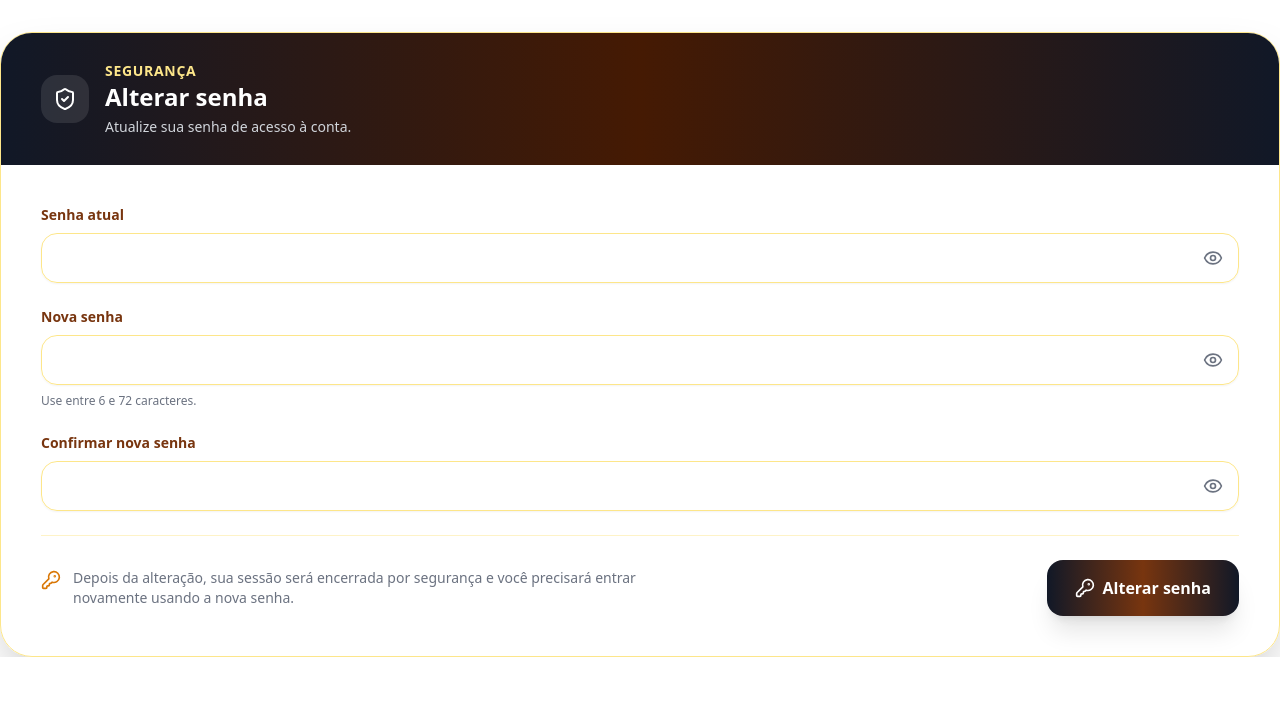
Test: PerfilSecurity › não deve enviar quando confirmação da senha for diferente
Type "senha-atual" into the password field labelled "Senha atual" at (640, 258), box [41,233,1239,283]
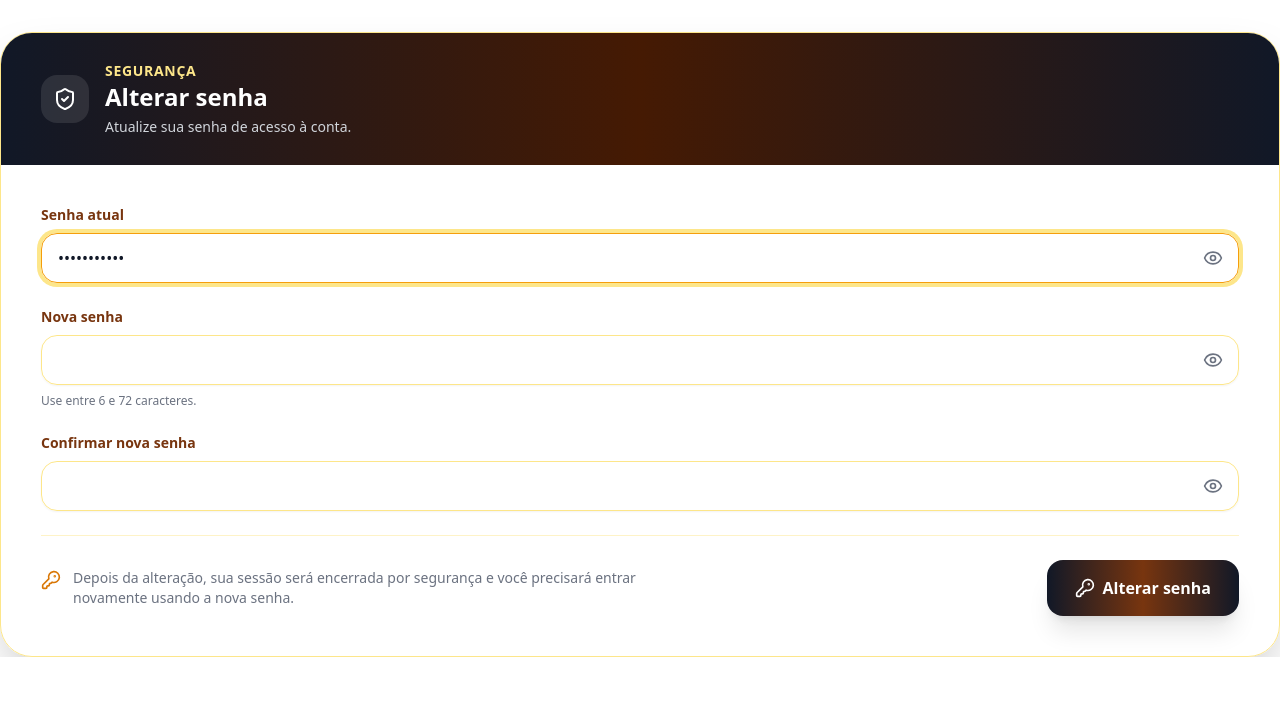
Type "nova-senha-123" into the password field labelled "Nova senha" at (640, 360), box [41,335,1239,385]
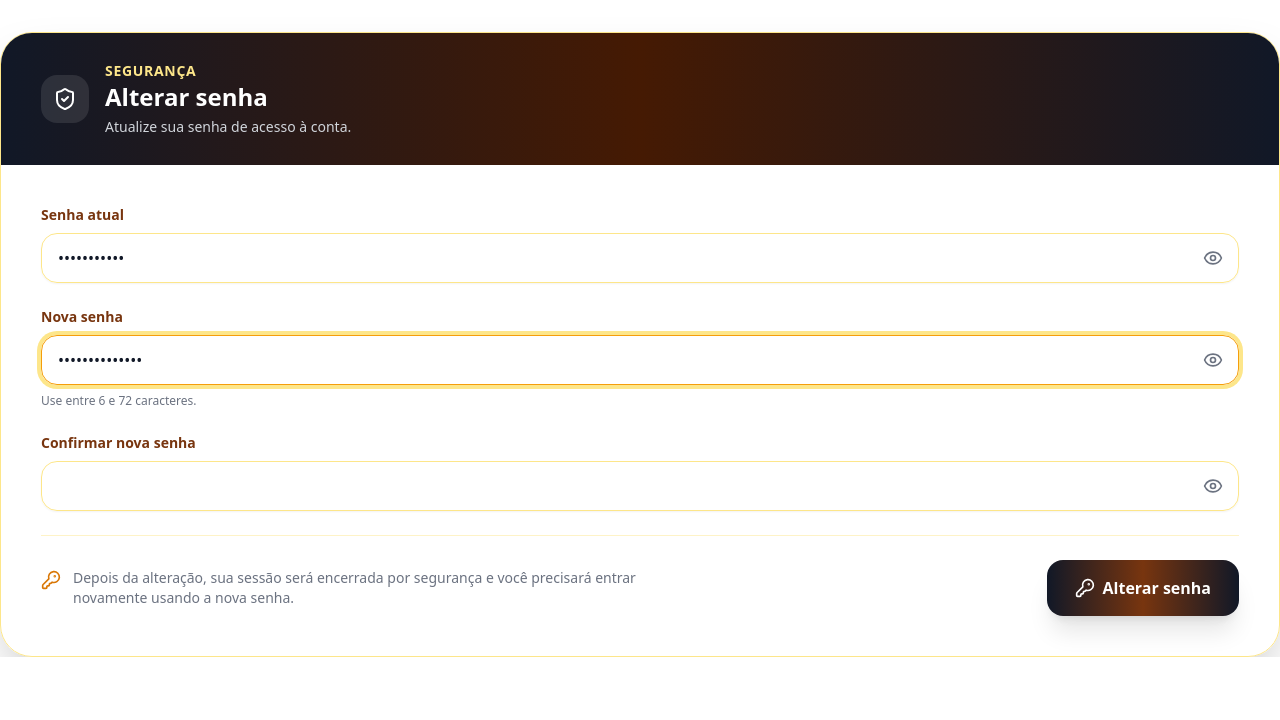
Type "senha-diferente" into the password field labelled "Confirmar nova senha" at (640, 486), box [41,461,1239,511]
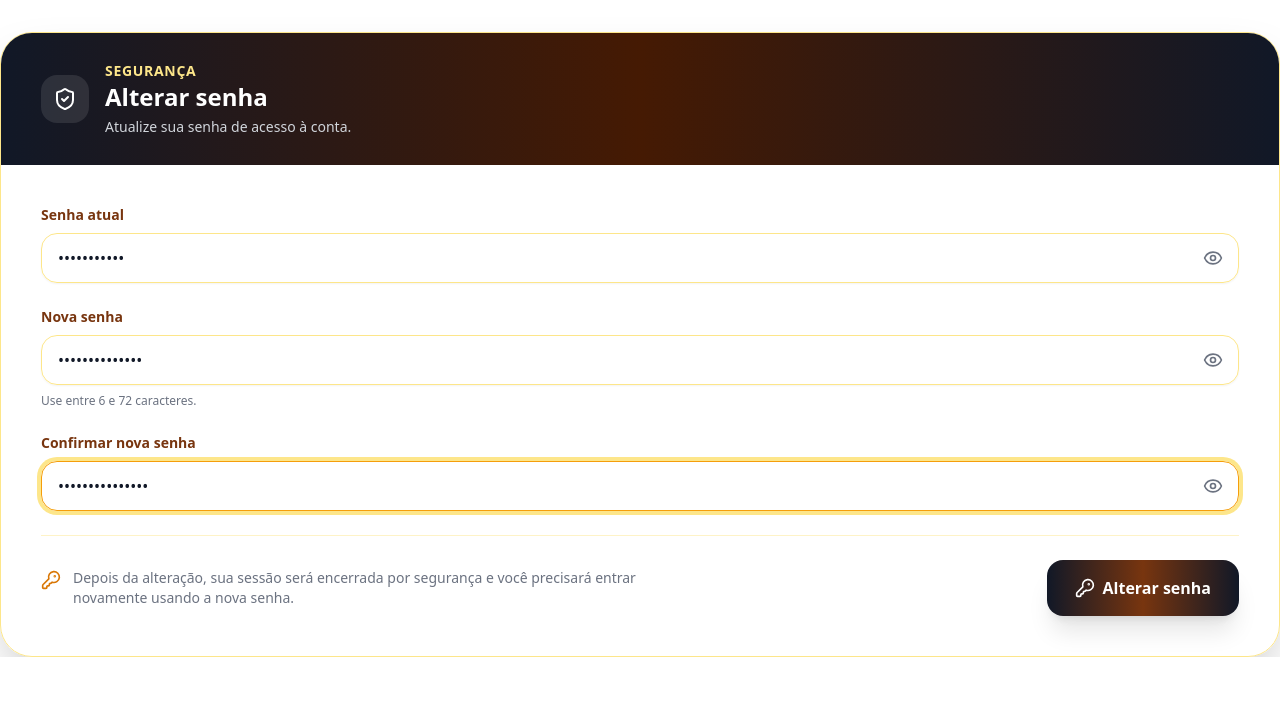
Click the button "Alterar senha" at (1143, 588), box [1046,560,1239,616]
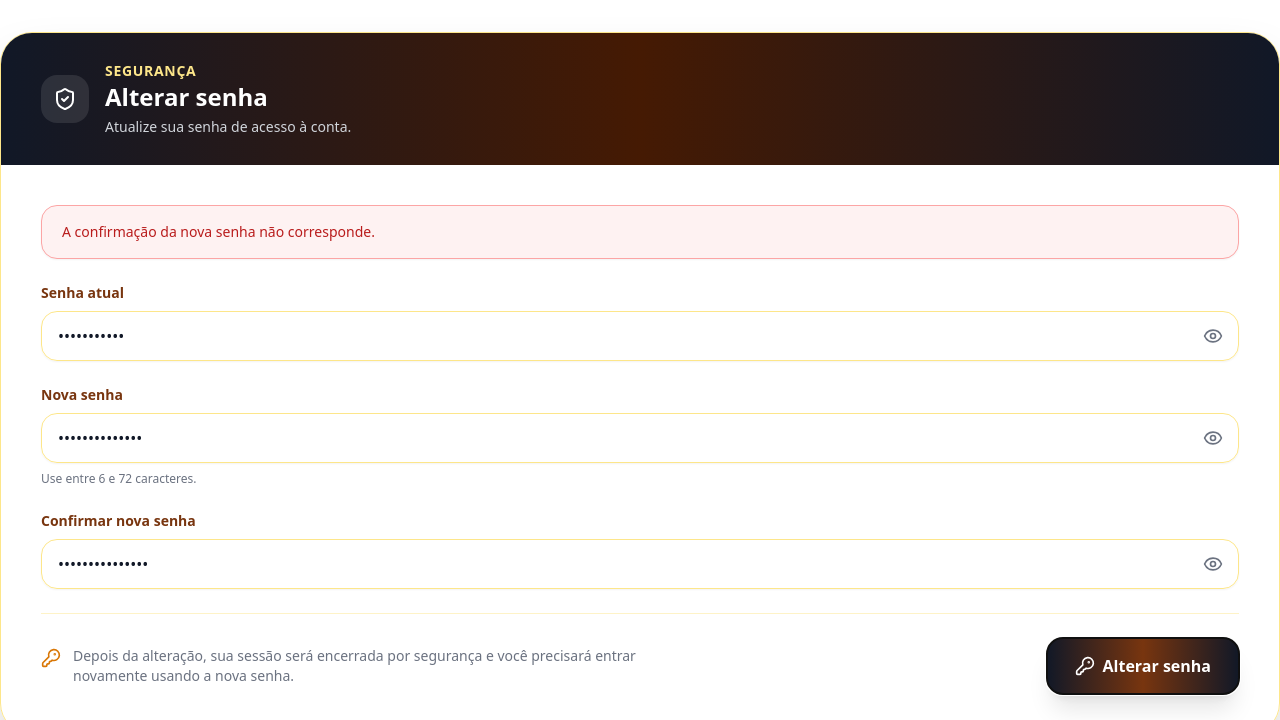
Now the text "A confirmação da nova senha não corresponde." is shown, box [41,205,1239,259]
